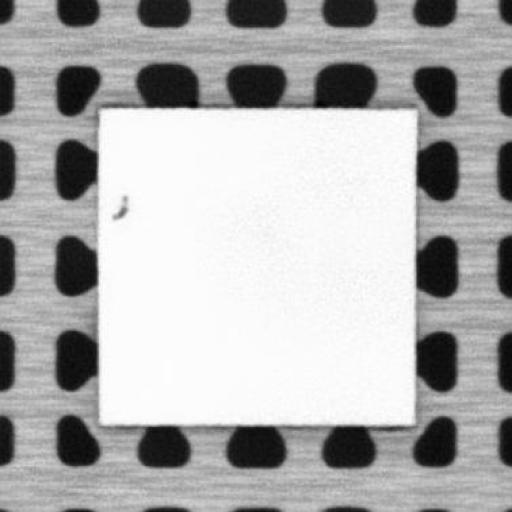DIE_INK: (108, 192, 129, 220)
